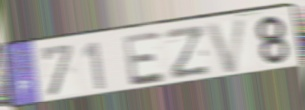1: (83, 40, 106, 92)
7: (40, 43, 75, 100)
8: (255, 13, 292, 68)
E: (121, 29, 168, 88)
V: (204, 16, 249, 76)
Z: (163, 23, 211, 82)
